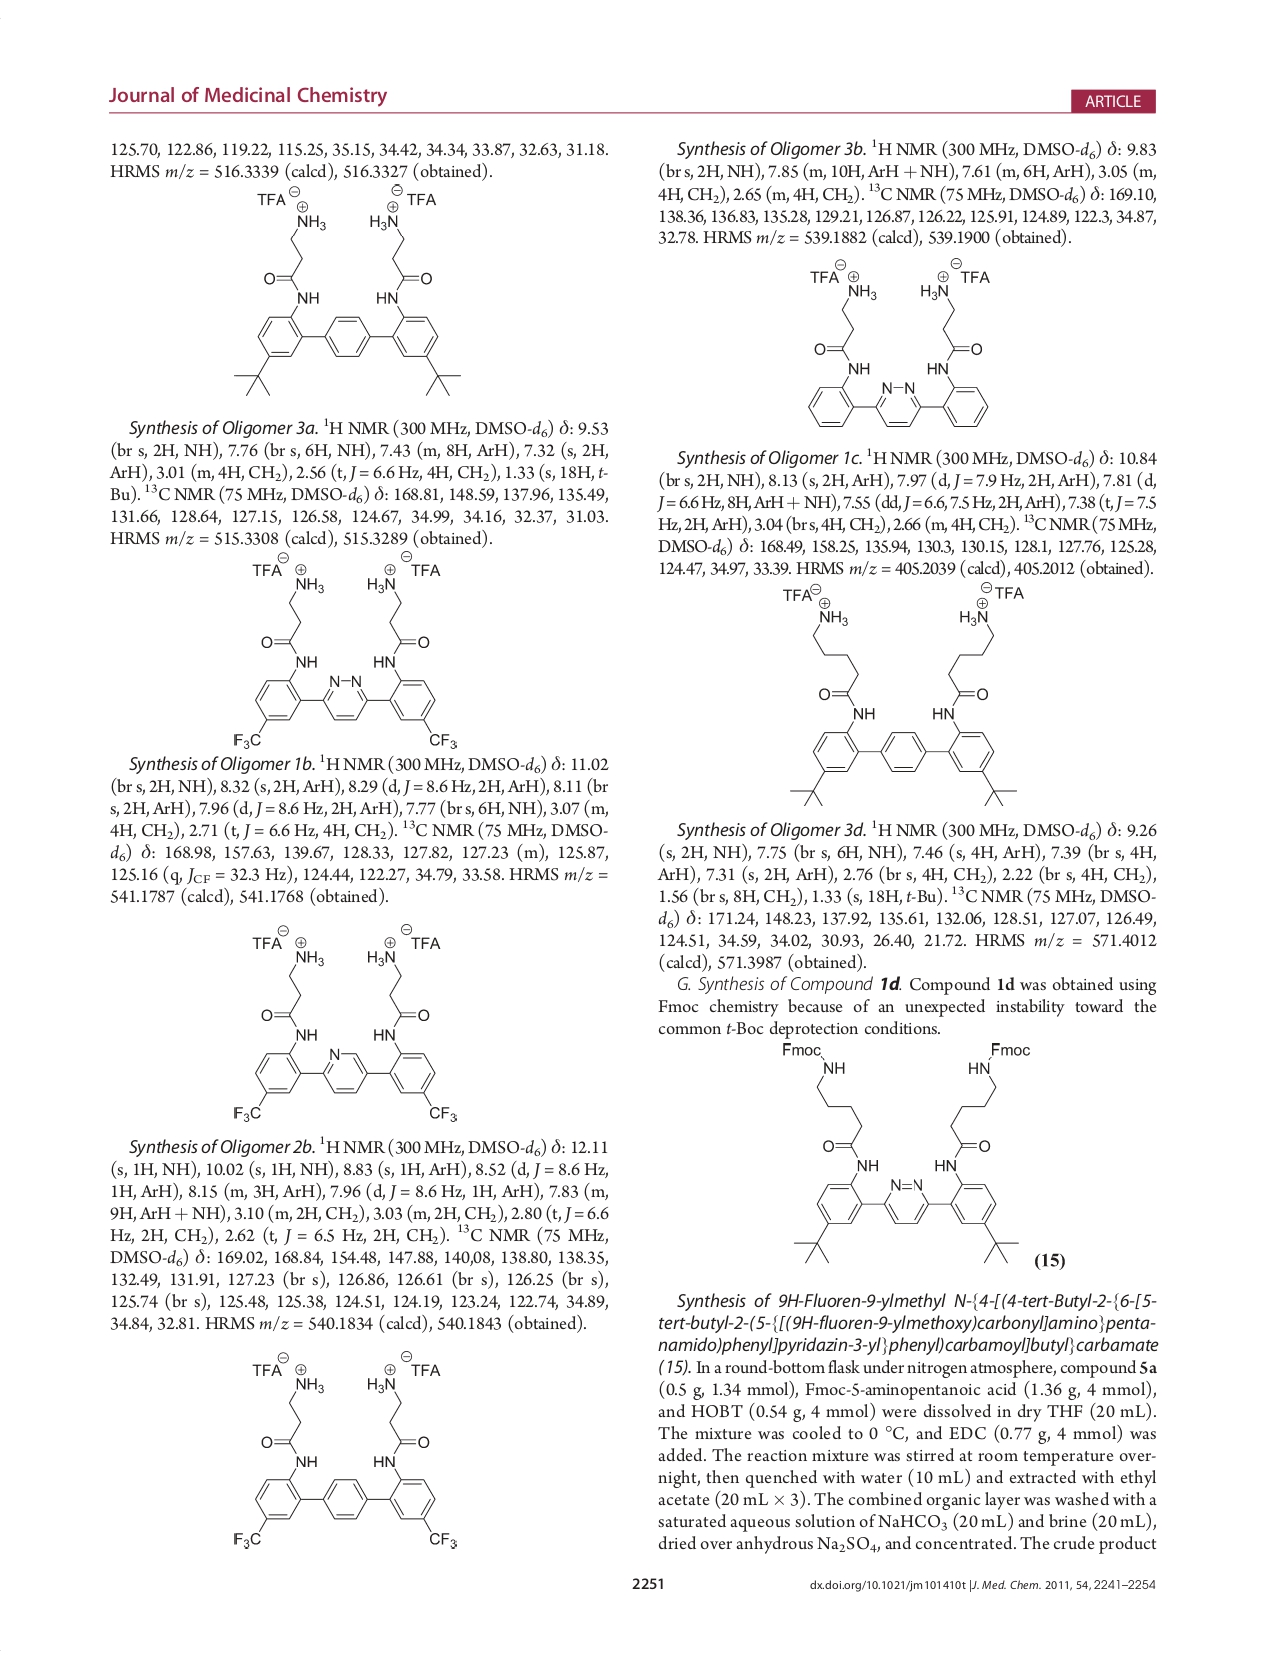exist_molecular: (777, 1037, 1031, 1267), (781, 580, 1028, 810), (231, 184, 461, 399), (229, 922, 464, 1126), (229, 549, 464, 751), (231, 1350, 461, 1555), (803, 257, 996, 432)
